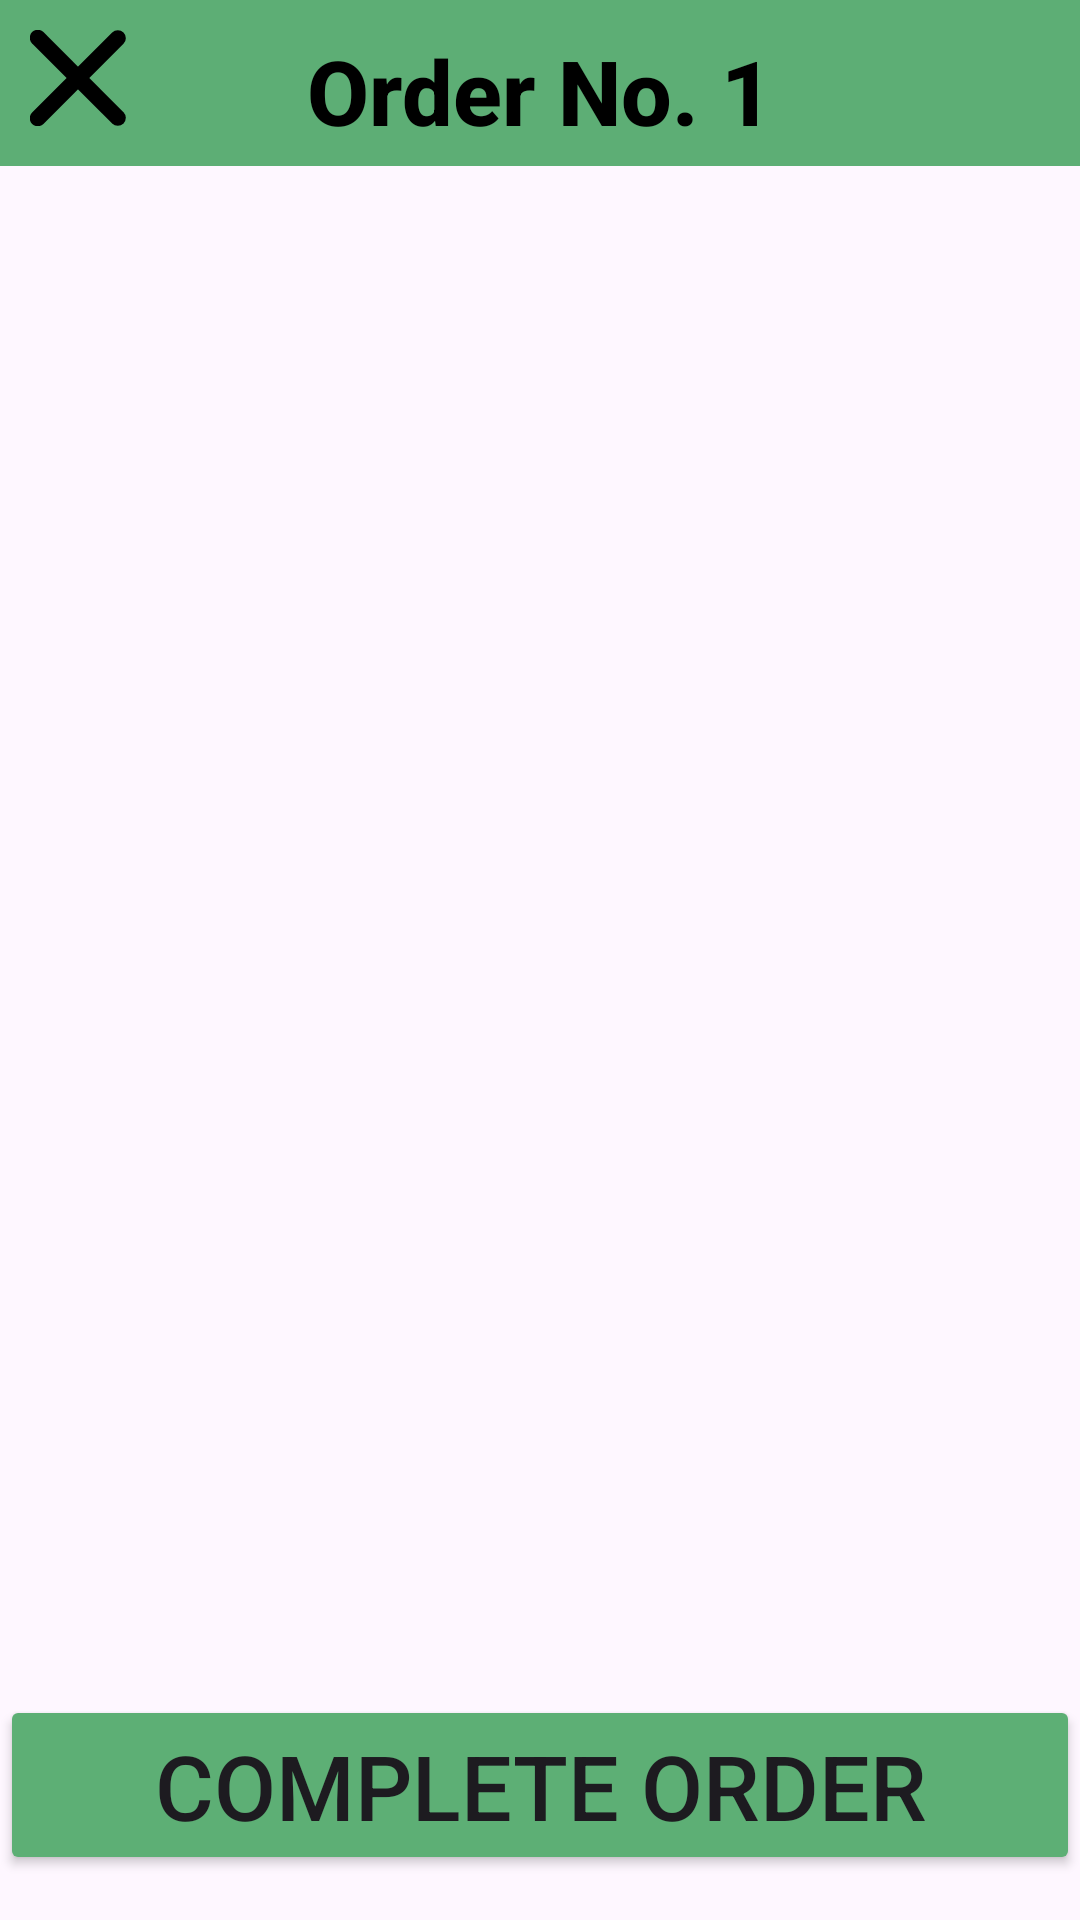

Point at icon controls on the screen. Image size 1080px×1920px, points as point (x, y).
close: point (78, 78)
